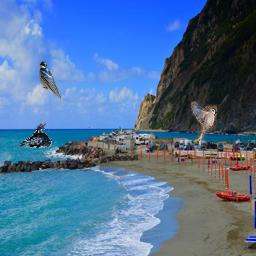Crow: (19, 122, 52, 148)
Sparrow: (191, 101, 217, 141)
Swallow: (39, 60, 61, 100)
